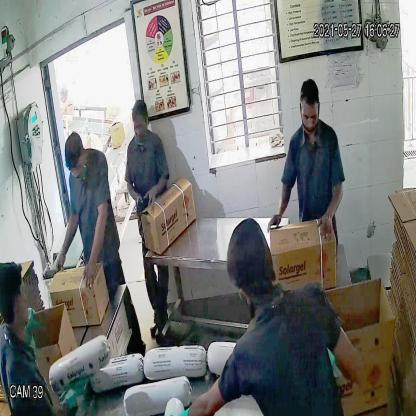no_goggles: (298, 106, 320, 128)
